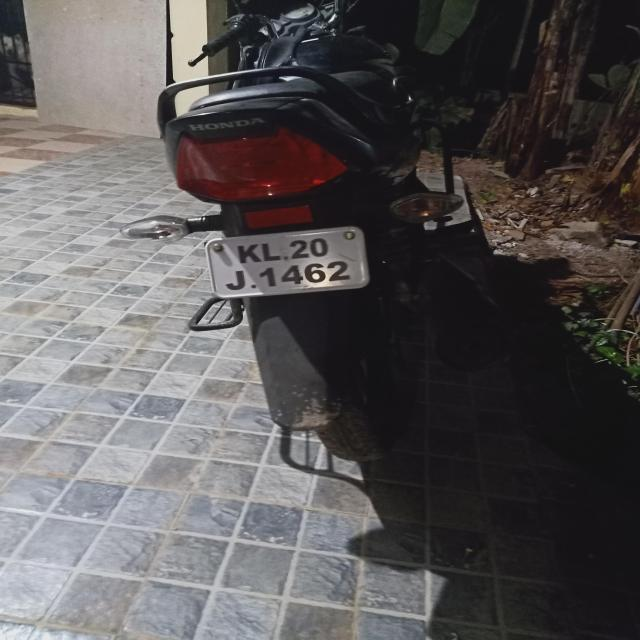plate: (204, 224, 371, 298)
